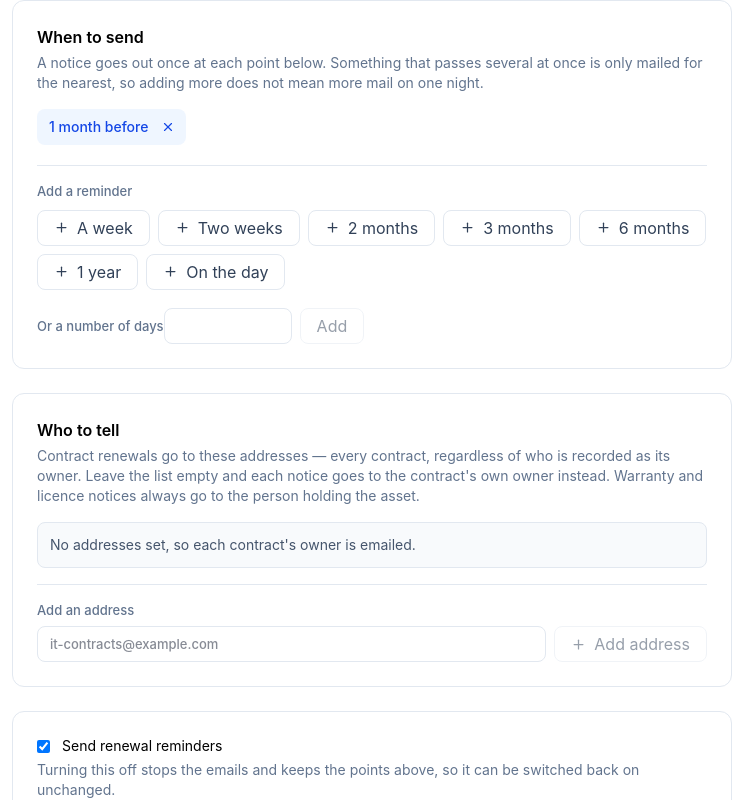
Test: RenewalRemindersPage › warns rather than saving nothing when every point is removed
Click the button named "Remove 1 month before".
click(168, 127)  # box [154,113,182,141]
(page scrolled)
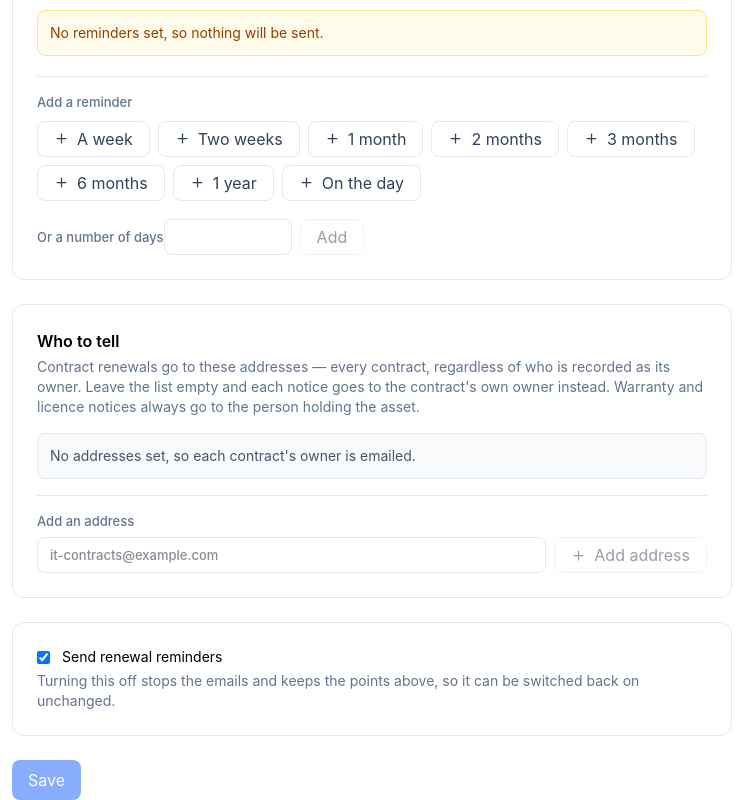
expect the text "No reminders set, so nothing will be sent." is shown: met, box [37,10,707,56]
expect the button "Save" is disabled: met, box [12,760,81,799]
